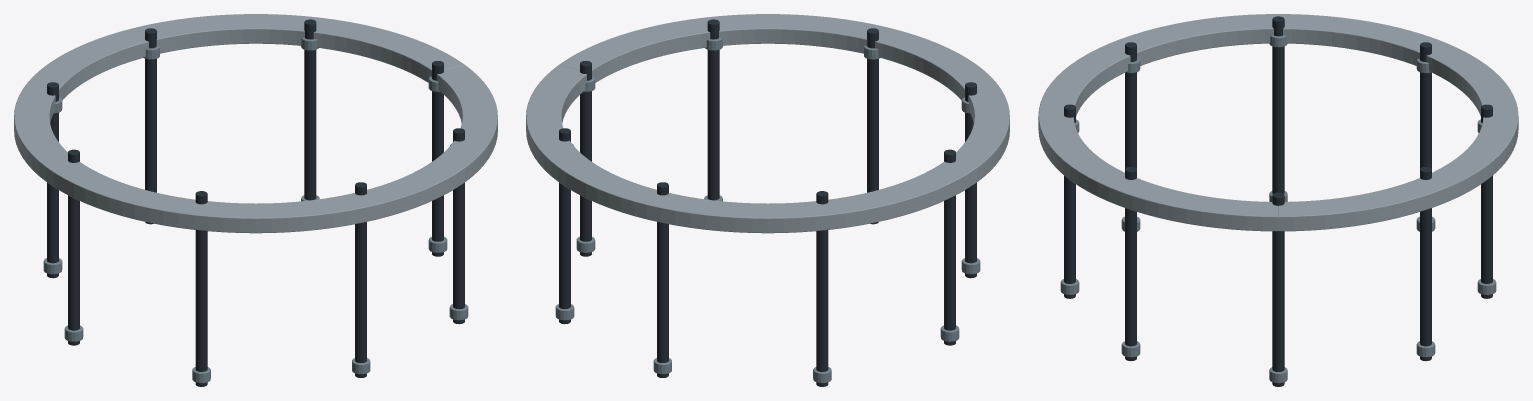
File: SM_Lab_ReactorSuspension.fbx
3 renders of one model, left to right at view 1: azimuth 30°, elevation 25°; view 2: azimuth 150°, elevation 25°; view 3: azimuth 270°, elevation 25°, orthographic.
Visible parts, largest first — view 1: SM_Lab_ReactorSuspension; view 2: SM_Lab_ReactorSuspension; view 3: SM_Lab_ReactorSuspension.
Part boxes in pixels (x1,y1,x2,y2): SM_Lab_ReactorSuspension: (14, 14, 497, 386); SM_Lab_ReactorSuspension: (526, 14, 1009, 386); SM_Lab_ReactorSuspension: (1038, 14, 1518, 386).
Bounding box in the file's own units: 518 × 518 × 226.
